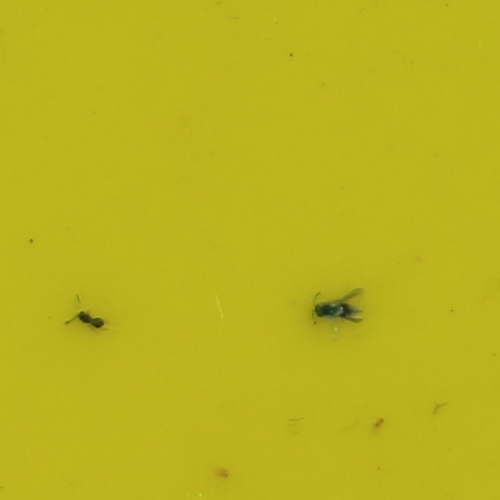wasp: (312, 300, 363, 319)
